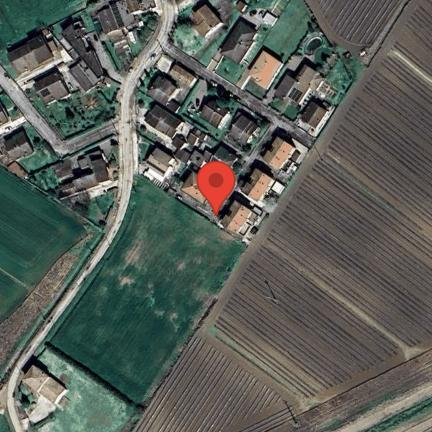built: (178, 133, 247, 213), (63, 18, 110, 83), (58, 150, 117, 199), (263, 125, 312, 182), (21, 361, 71, 412), (273, 62, 322, 112), (241, 161, 287, 214), (146, 101, 196, 149), (8, 30, 53, 77), (218, 17, 261, 66), (223, 197, 267, 244), (187, 2, 230, 40), (144, 144, 184, 182), (227, 107, 263, 149), (247, 49, 284, 88), (36, 66, 73, 105), (0, 125, 37, 163), (199, 97, 236, 130), (94, 0, 125, 39), (145, 75, 176, 110), (54, 157, 78, 181)
vegetation_low: (45, 175, 247, 406), (264, 154, 432, 352), (214, 248, 409, 408), (324, 57, 432, 230), (138, 340, 309, 432), (0, 162, 90, 326), (34, 343, 132, 432), (308, 0, 409, 65), (40, 84, 122, 141), (0, 0, 85, 54), (261, 1, 314, 61), (164, 17, 223, 68), (394, 2, 432, 81)
